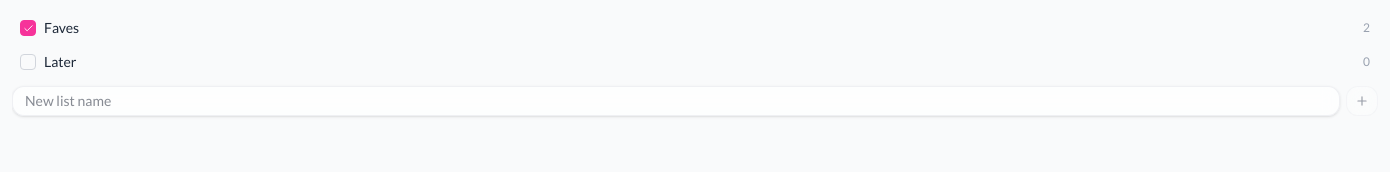
Test case: ListPicker › shows the error when a toggle fails, and does not report a change
The image size is (1390, 172).
What coordinates should you click on to do the following:
click the checkbox labelled "Later 0"
I would click on:
 (60, 62)
Its box is [12,46,1378,78].
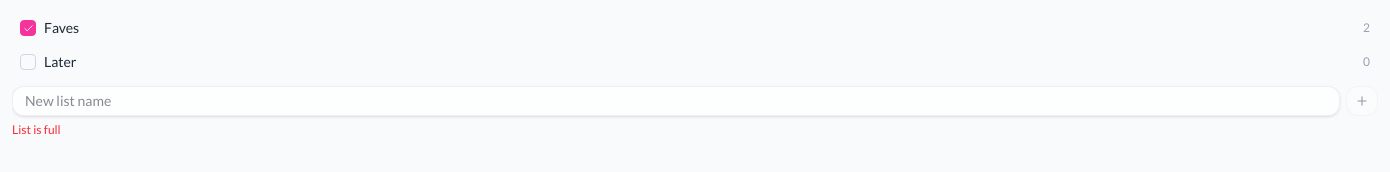
Result: the text "List is full" is shown at [12,122,61,137]
